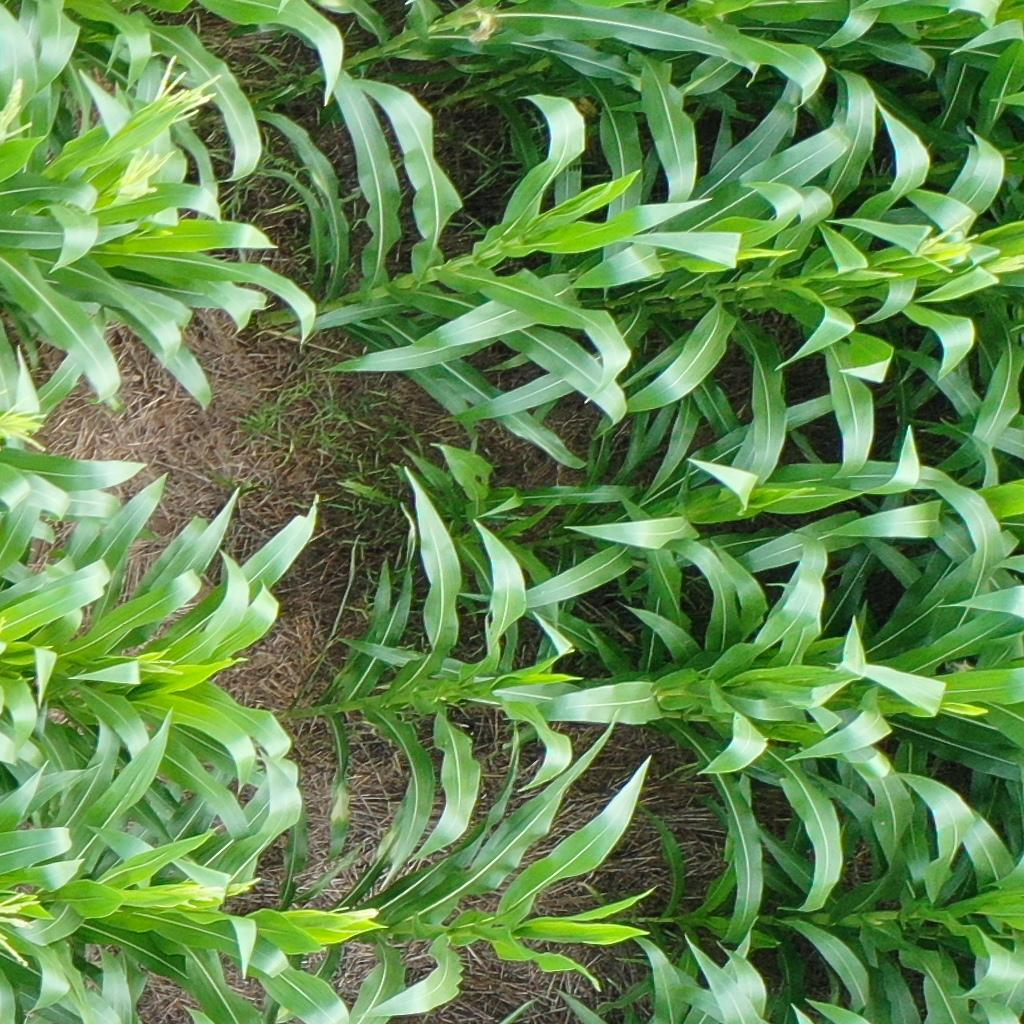Tassel: (152, 49, 221, 124), (1, 885, 46, 974), (914, 211, 978, 273), (158, 872, 260, 909), (112, 147, 177, 203), (1, 401, 53, 453), (1, 79, 35, 143), (988, 252, 1024, 274)
